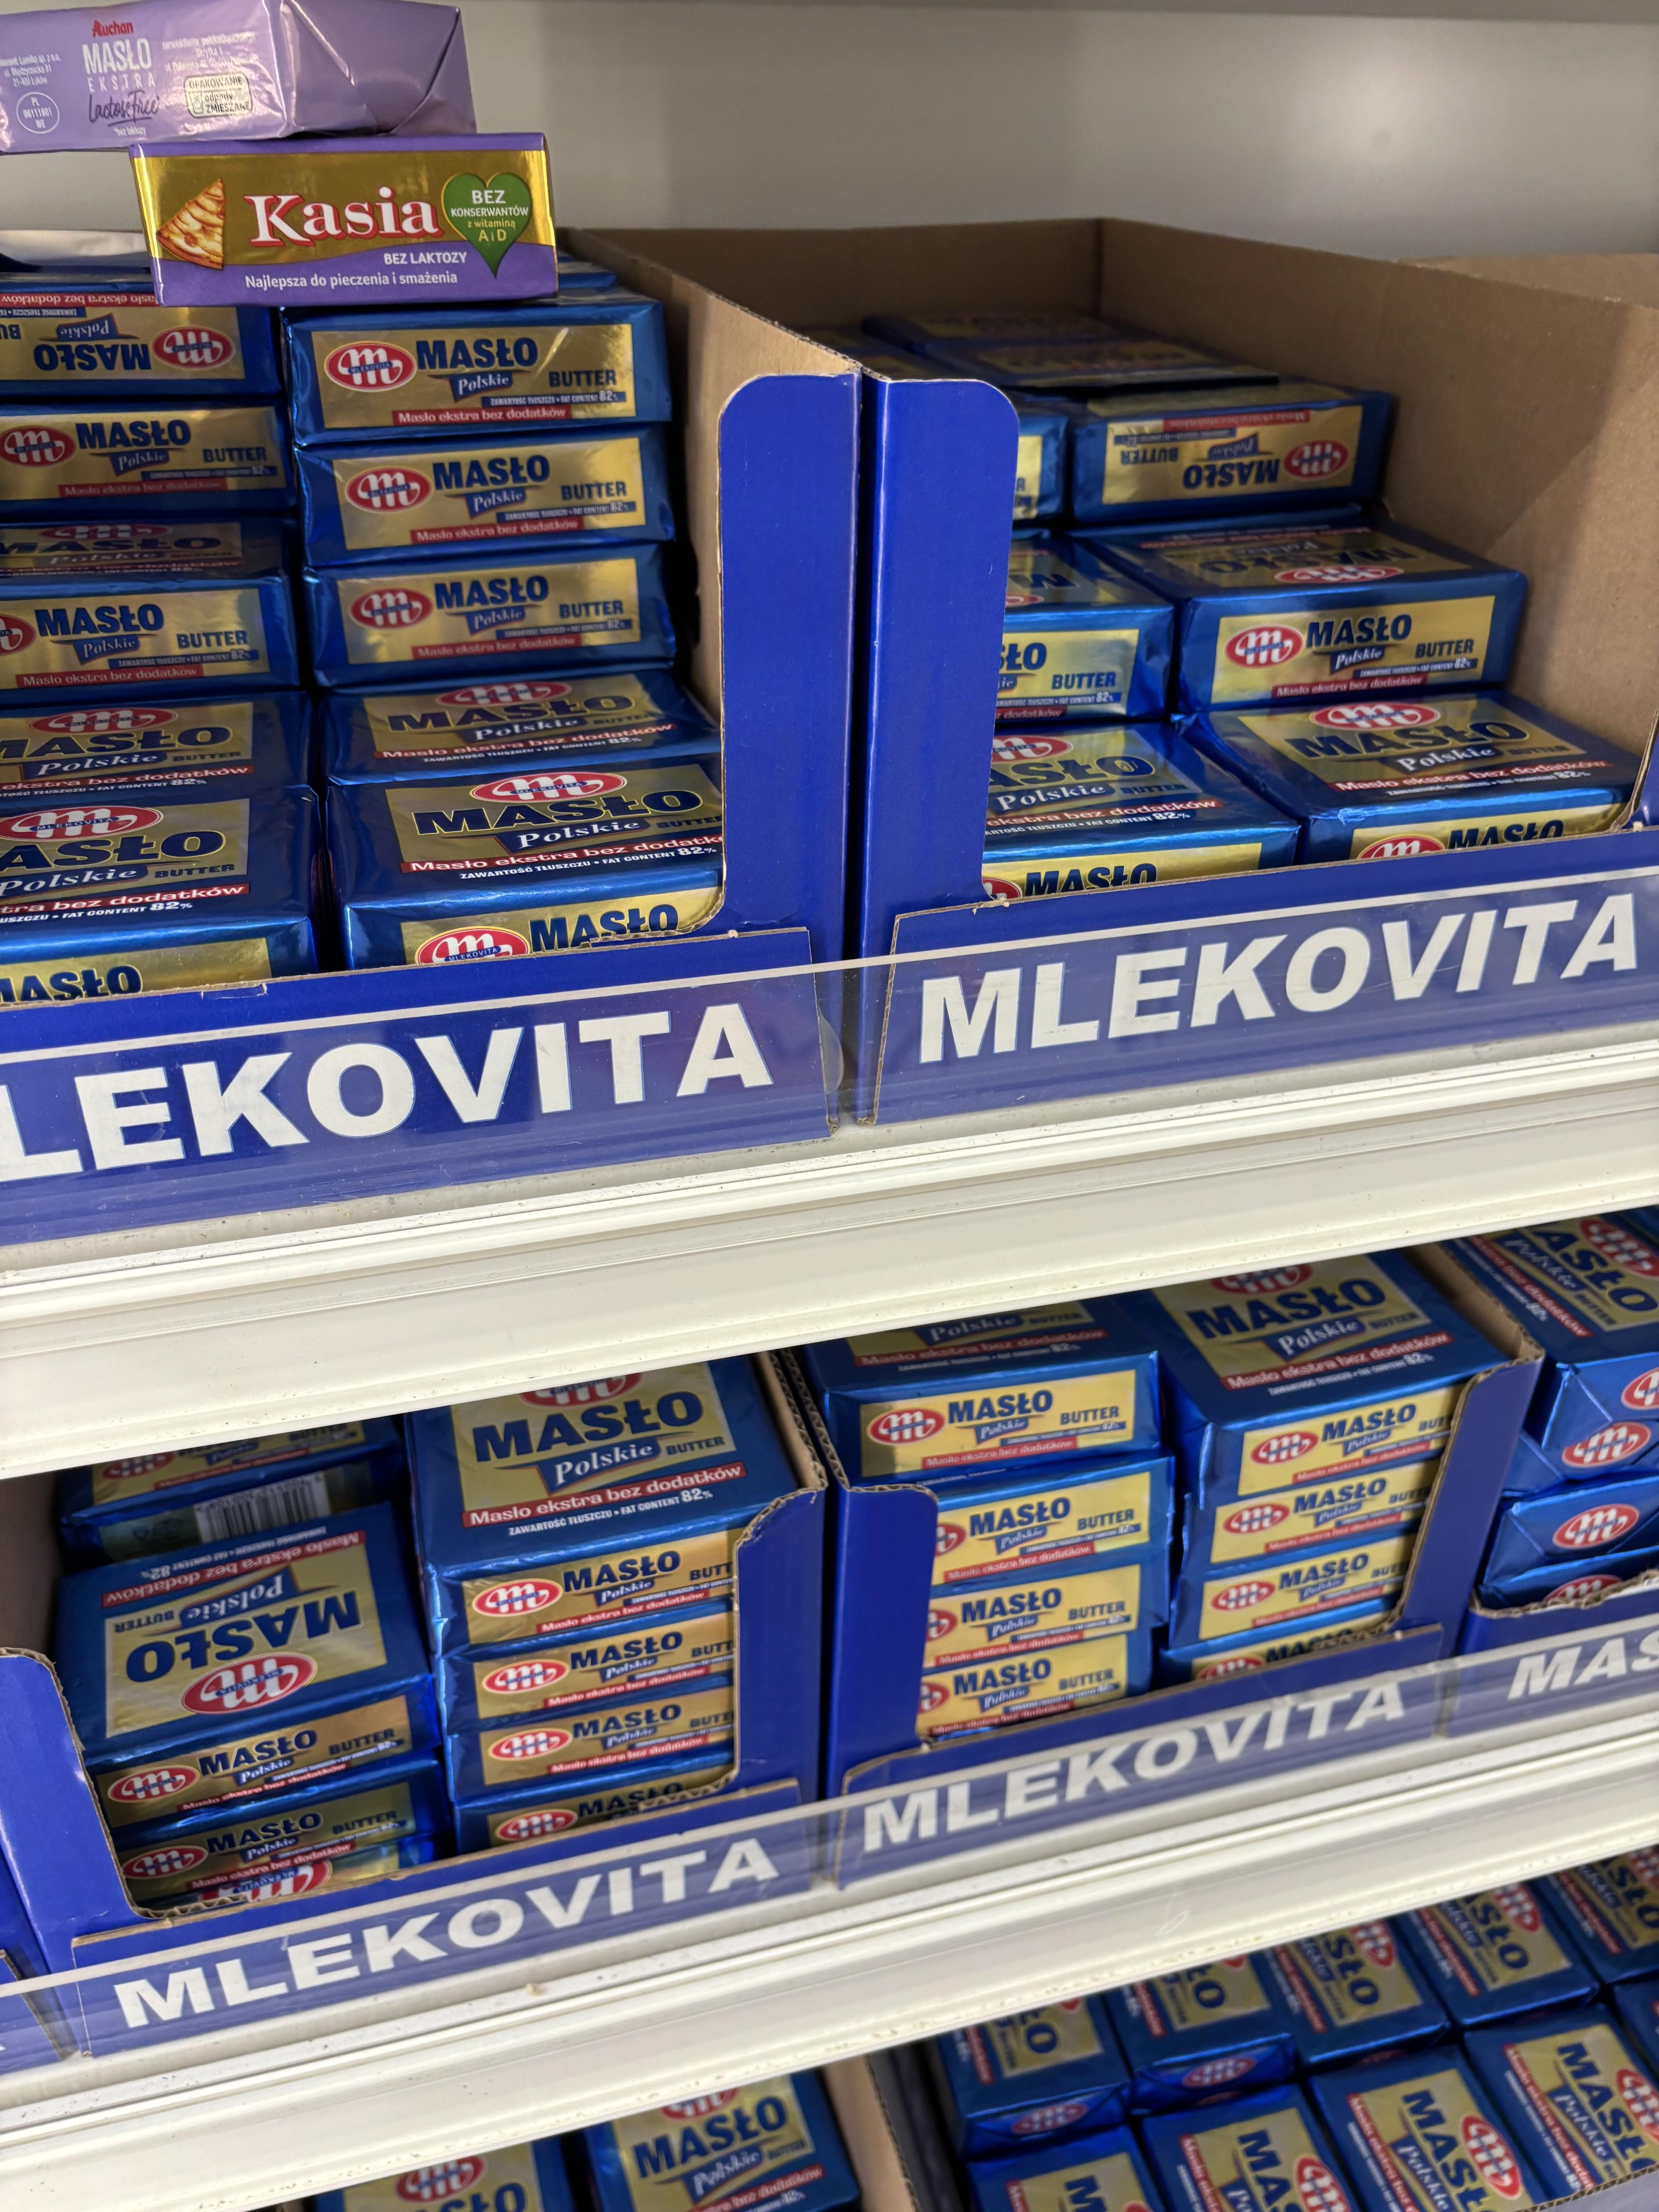Butter: (73, 1576, 484, 1750), (347, 775, 763, 946), (12, 806, 390, 991), (1133, 521, 1507, 698), (1126, 1289, 1481, 1458), (993, 732, 1295, 913), (423, 1420, 777, 1571), (293, 557, 716, 669), (816, 1350, 1162, 1470), (291, 319, 688, 416), (303, 437, 669, 528), (315, 681, 690, 761)
